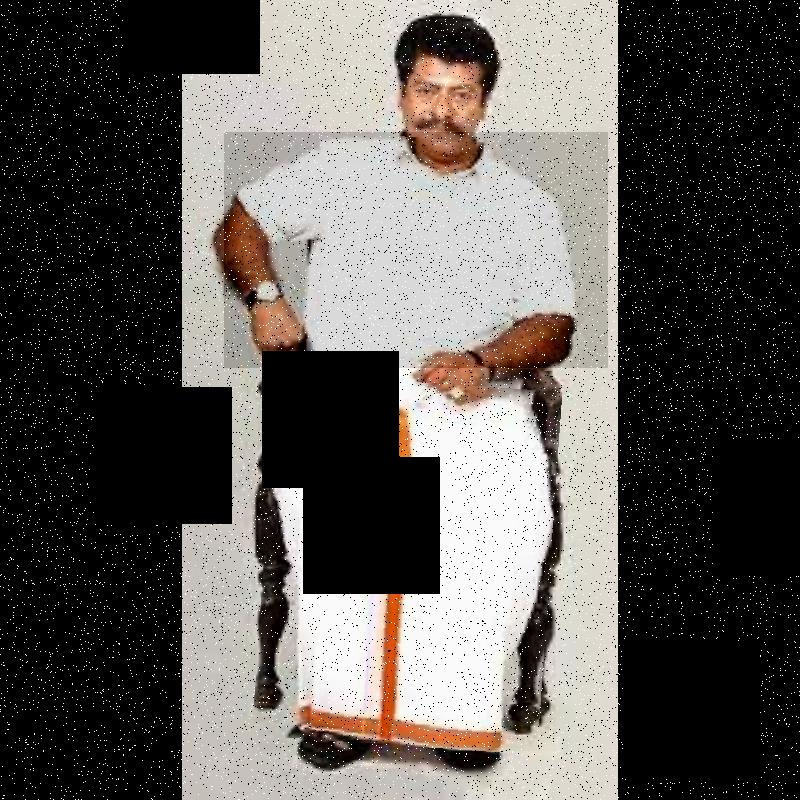Dhoti: (258, 377, 556, 751)
shirt: (224, 132, 608, 368)
